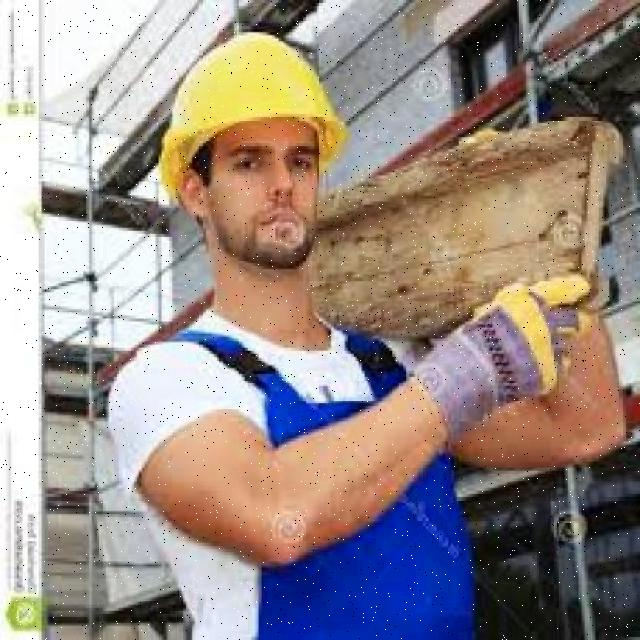Hard_hat: (158, 23, 357, 157)
